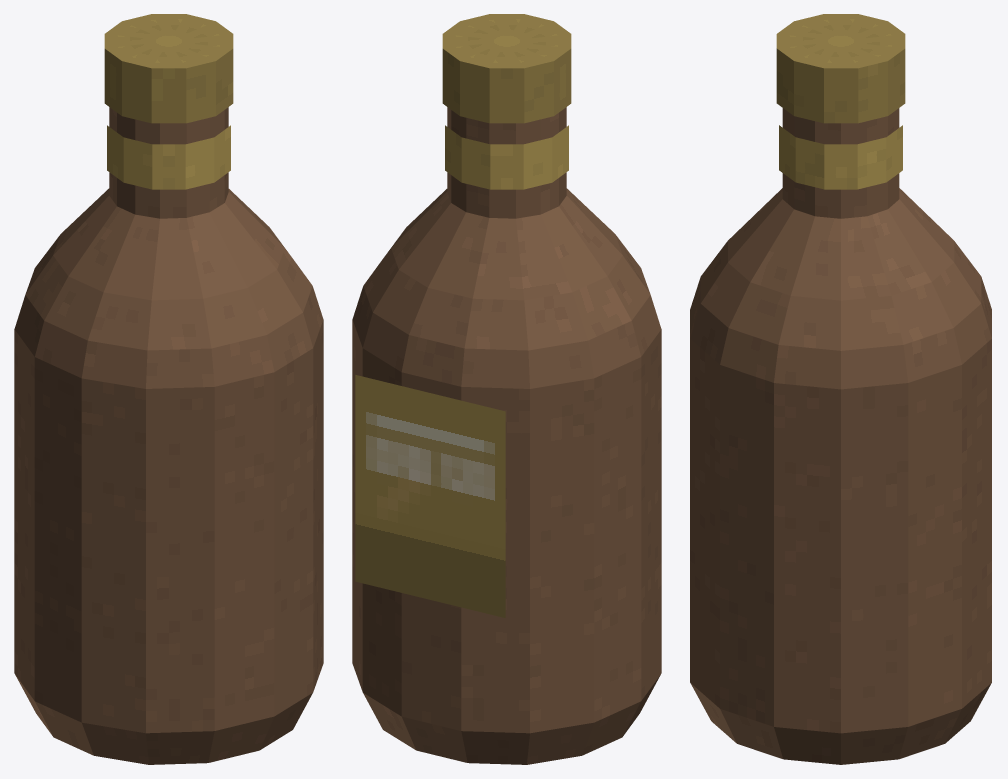
The model's file is european_pilsner.glb.
The picture shows the model from 3 angles, left to right: view 1: azimuth 30°, elevation 25°; view 2: azimuth 150°, elevation 25°; view 3: azimuth 270°, elevation 25°; orthographic projection.
Visible parts, largest first — view 1: block_bottle silhouette, block_bottle closure, block_neck band; view 2: block_bottle silhouette, block_drink label, block_bottle closure, block_neck band; view 3: block_bottle silhouette, block_bottle closure, block_neck band.
Boxes of the visible parts, x1,y1,x2,y2 form: block_bottle silhouette: (14, 107, 323, 764); block_bottle closure: (104, 14, 233, 123); block_neck band: (107, 125, 230, 189); block_bottle silhouette: (352, 107, 661, 764); block_drink label: (355, 375, 505, 617); block_bottle closure: (442, 14, 571, 123); block_neck band: (445, 125, 568, 189); block_bottle silhouette: (690, 108, 991, 764); block_bottle closure: (776, 14, 905, 123); block_neck band: (779, 125, 902, 189).
Size of the model in its own units: 0.0688 by 0.1638 by 0.0675.
1 material, 1 textured.
